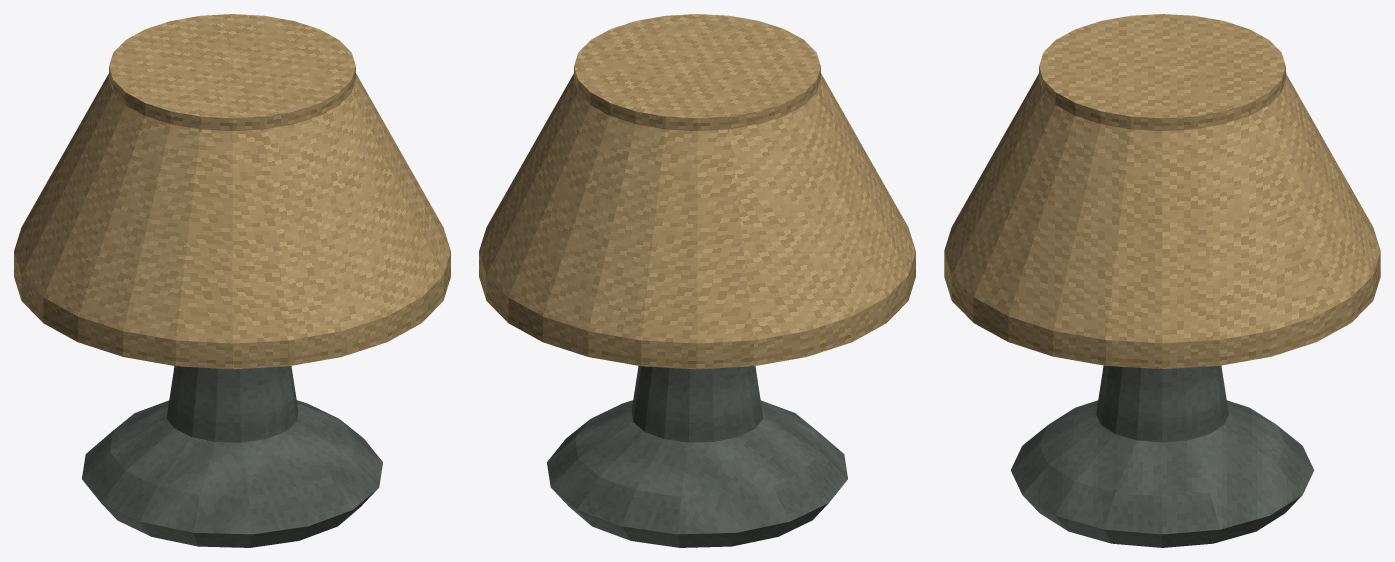
The model's file is level_table_lamp.glb.
The picture shows the model from 3 angles, left to right: view 1: azimuth 30°, elevation 25°; view 2: azimuth 150°, elevation 25°; view 3: azimuth 270°, elevation 25°; orthographic projection.
Visible parts, largest first — view 1: level_table_lamp; view 2: level_table_lamp; view 3: level_table_lamp.
Part boxes in pixels (<box>): level_table_lamp: <box>14,14,450,547</box>; level_table_lamp: <box>479,14,915,547</box>; level_table_lamp: <box>944,14,1380,547</box>.
Size of the model in its own units: 0.46 by 0.495 by 0.46.
2 materials, 2 textured.
